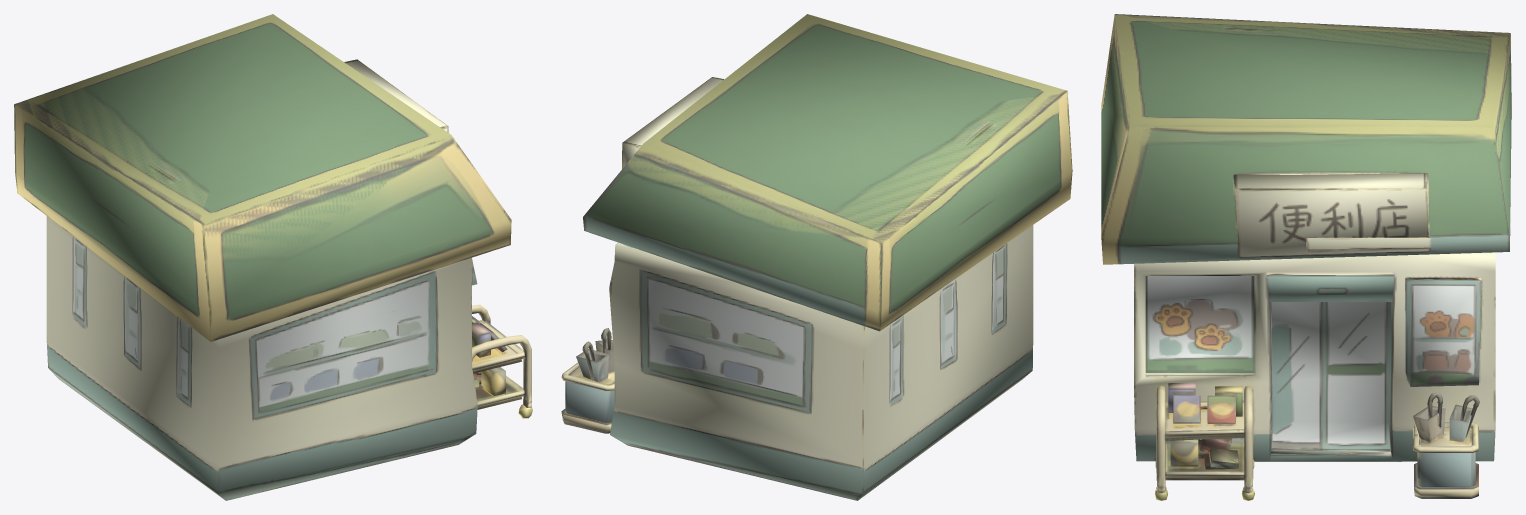
The model's file is 便利店3d模型.fbx.
3 views of the same model, side by side, from view 1: azimuth 30°, elevation 25°; view 2: azimuth 150°, elevation 25°; view 3: azimuth 270°, elevation 25° (orthographic). The views are drawn at different scales.
Visible parts, largest first — view 1: meshes[0]; view 2: meshes[0]; view 3: meshes[0].
Boxes of the visible parts, x1=… form: meshes[0]: x1=14, y1=14, x2=532, y2=500; meshes[0]: x1=561, y1=14, x2=1072, y2=500; meshes[0]: x1=1101, y1=14, x2=1511, y2=500.
Bounding box in the file's own units: 0.998 × 0.8574 × 0.959.
Materials: 1 (1 with a texture image).
